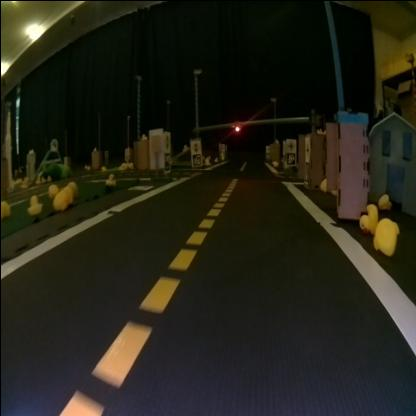Duckie: (372, 217, 396, 252), (358, 204, 376, 232), (26, 195, 40, 214), (52, 190, 66, 208), (377, 191, 388, 209), (104, 172, 115, 186), (1, 199, 9, 216), (48, 182, 56, 196), (204, 156, 210, 164), (140, 132, 146, 140)
QR code: (284, 151, 294, 163), (190, 152, 198, 164)
Signal sign: (190, 140, 198, 150)
